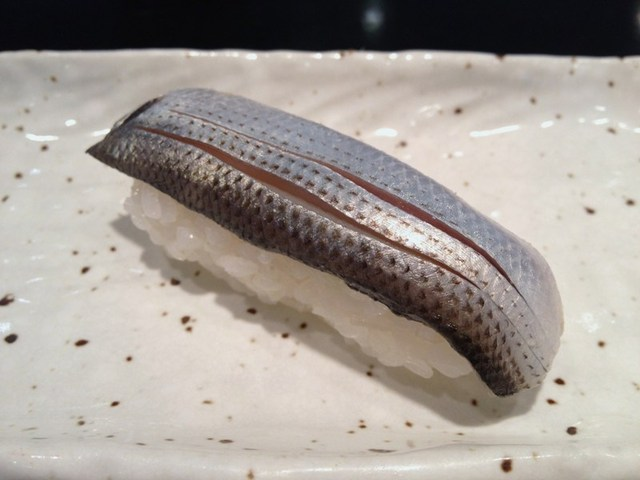spotted-shad: (83, 79, 570, 404)
